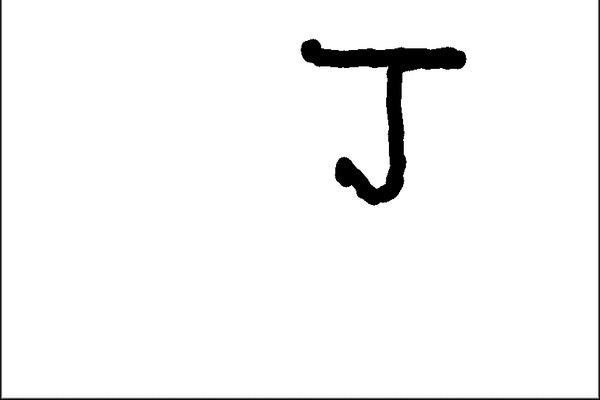J: (293, 29, 469, 206)
